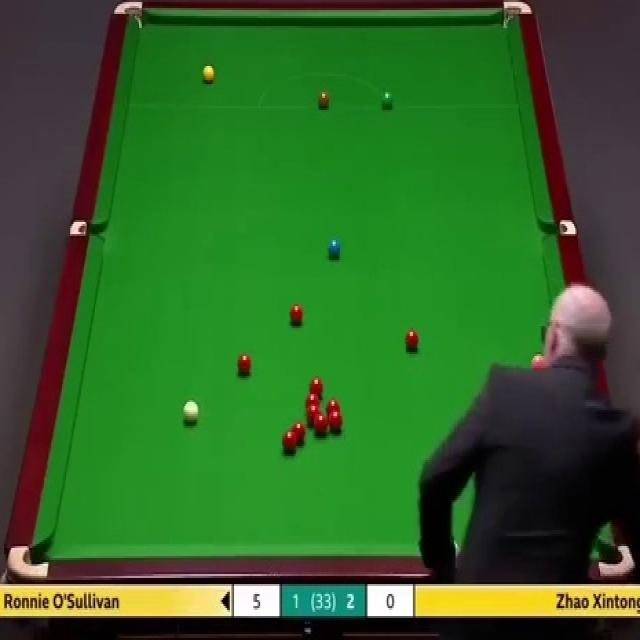pocket: (6, 540, 50, 577), (600, 546, 631, 580), (500, 0, 532, 29), (114, 0, 144, 29), (69, 221, 108, 237), (543, 218, 577, 236)
